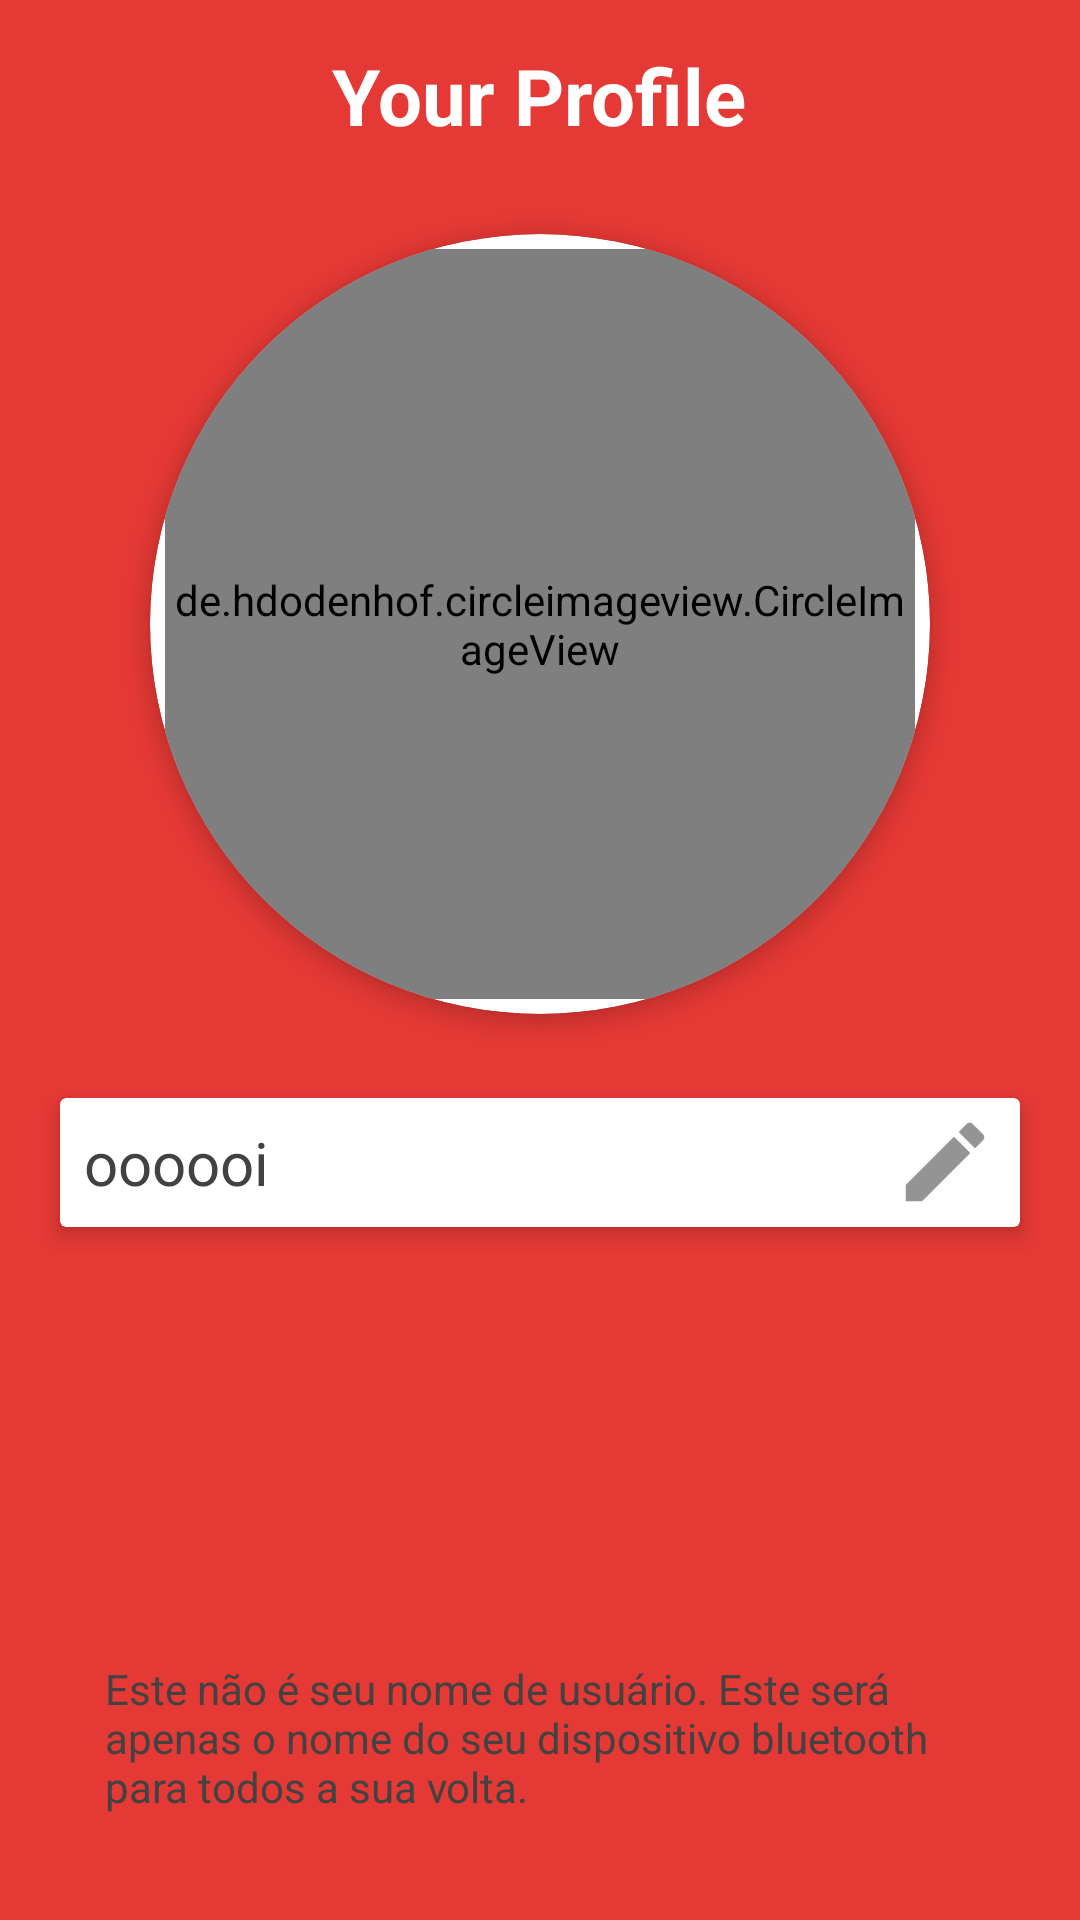

Locate icon controls on the screen. Image size 1080 x 1920, boxes as Rect(x1, y1, x2, y2).
edit: Rect(905, 1122, 985, 1202)
